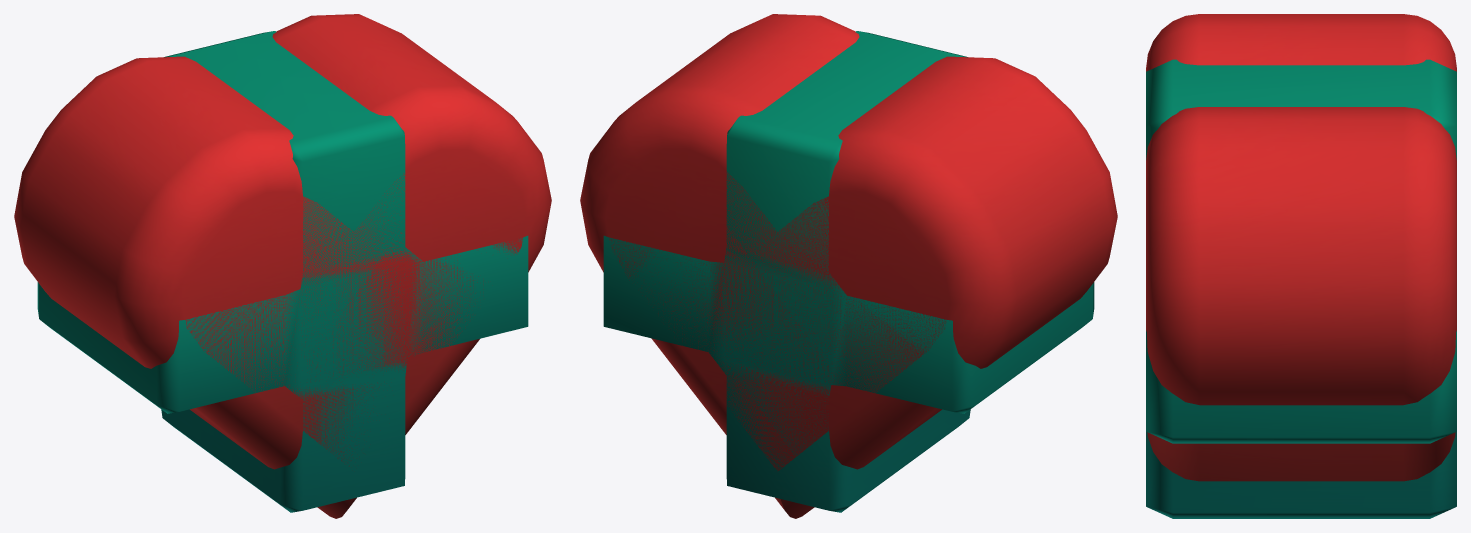
3 renders of one model, left to right at view 1: azimuth 30°, elevation 25°; view 2: azimuth 150°, elevation 25°; view 3: azimuth 270°, elevation 25°, orthographic. The views are drawn at different scales.
Visible parts, largest first — view 1: HealthPU, SpeedPU; view 2: HealthPU, SpeedPU; view 3: HealthPU, SpeedPU.
Part boxes in pixels (left/top/right/bottom): HealthPU: left=14, top=14, right=551, bottom=518; SpeedPU: left=37, top=31, right=528, bottom=512; HealthPU: left=580, top=14, right=1117, bottom=518; SpeedPU: left=603, top=31, right=1094, bottom=512; HealthPU: left=1146, top=14, right=1456, bottom=481; SpeedPU: left=1146, top=59, right=1456, bottom=518.
Size of the model in its own units: 1.75 by 1.58 by 1.
